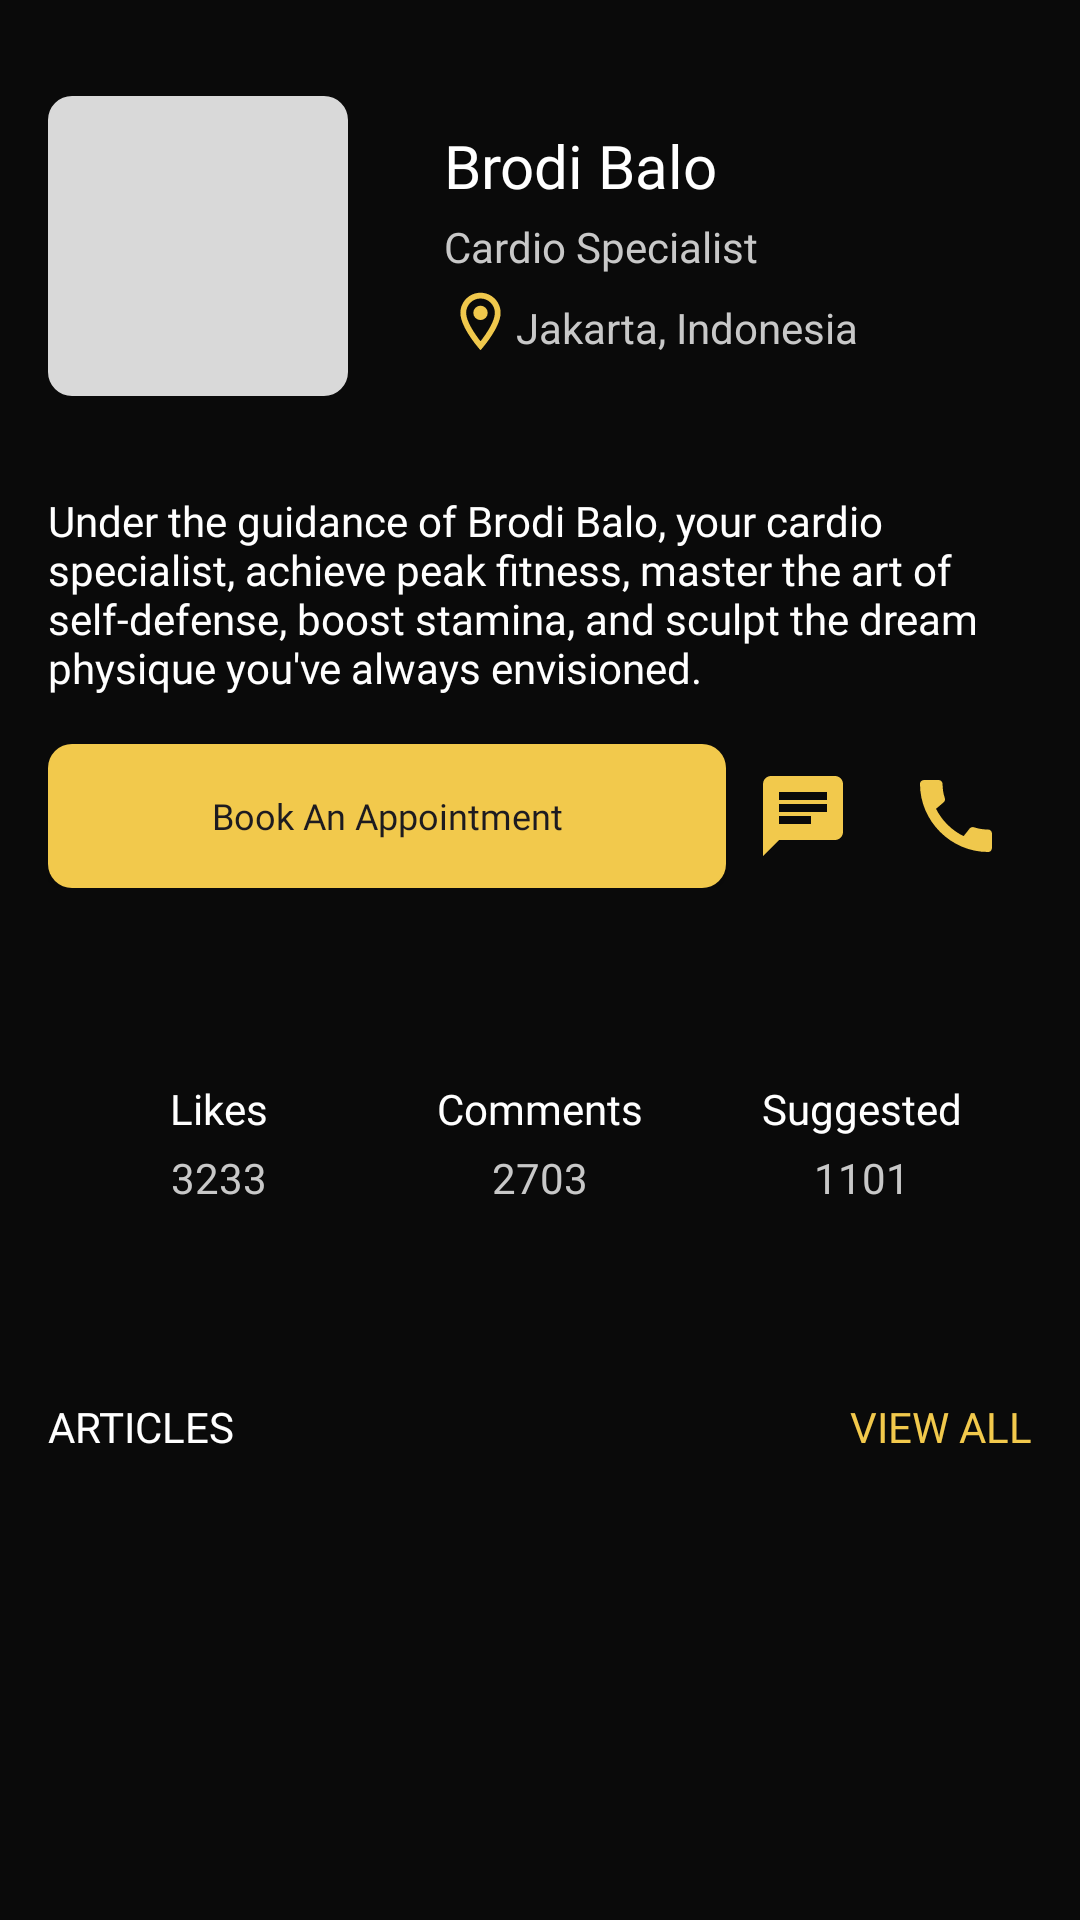

Icon click points for this 1080×1920 phone screenshot, format [x,y]:
call: [956,816]
chat: [803,816]
location on: [480,321]
